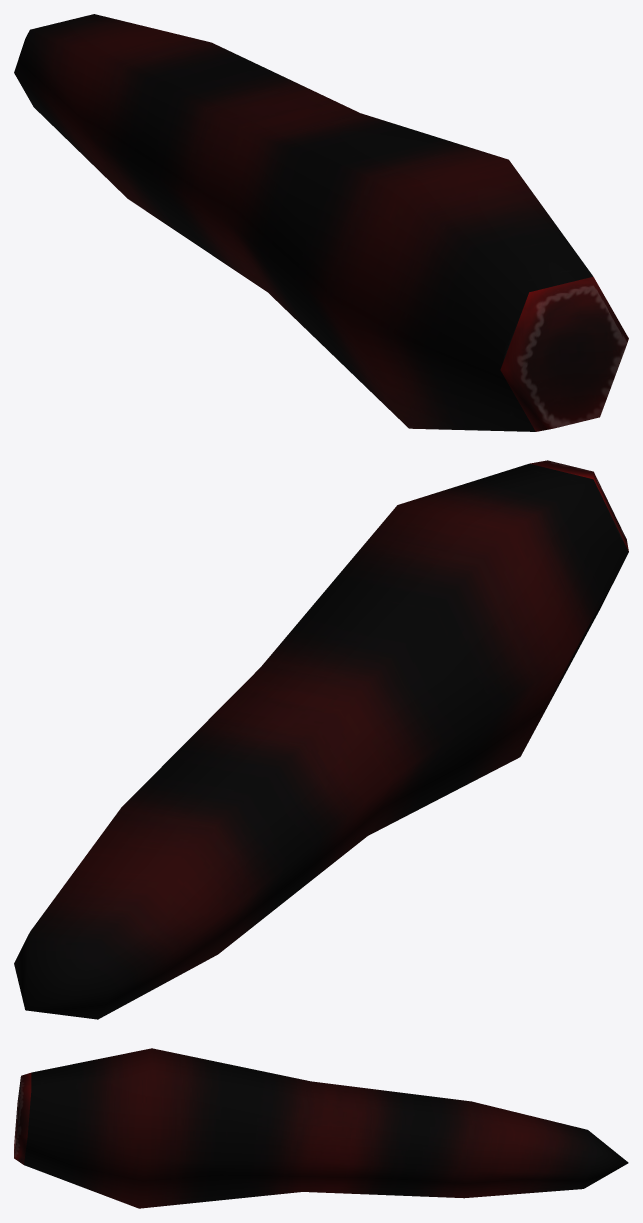
Rendered from decayLeech.fbx.
3 renders of one model, top to bottom at view 1: azimuth 30°, elevation 25°; view 2: azimuth 150°, elevation 25°; view 3: azimuth 270°, elevation 25°, orthographic. The views are drawn at different scales.
Parts seen in each view (by area): view 1: pSphere1; view 2: pSphere1; view 3: pSphere1.
Boxes of the visible parts, x1,y1,x2,y2 form: pSphere1: [14, 14, 628, 431]; pSphere1: [14, 460, 628, 1019]; pSphere1: [14, 1048, 628, 1208].
Bounding box in the file's own units: 0.1345 × 0.1346 × 0.5767.
